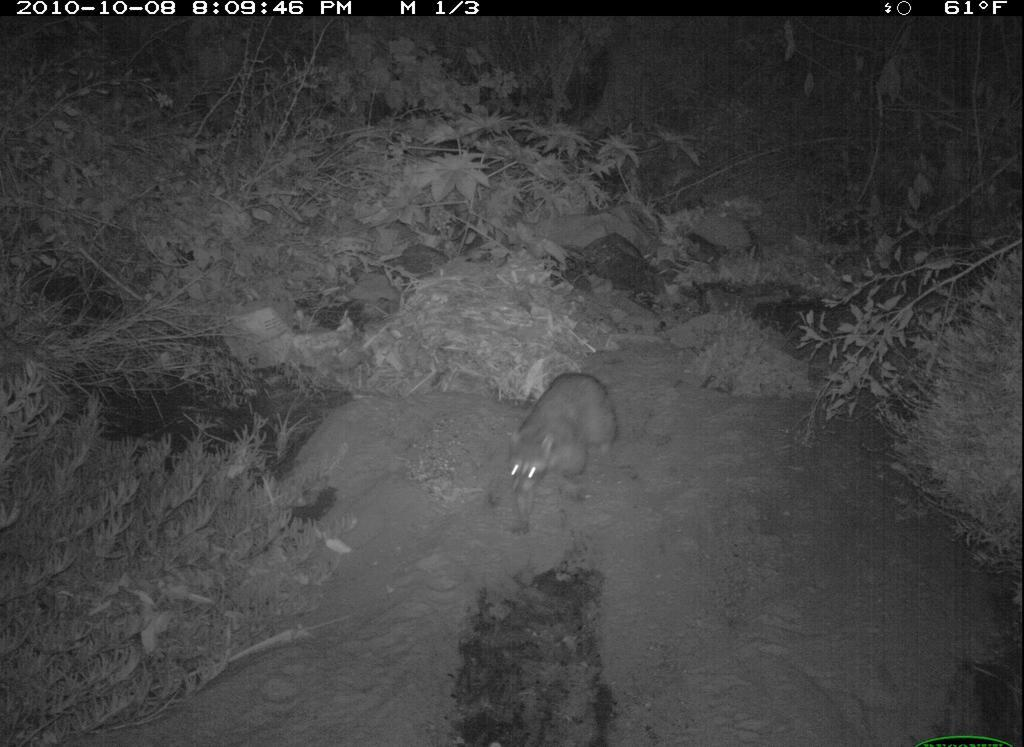raccoon: (500, 370, 621, 541)
